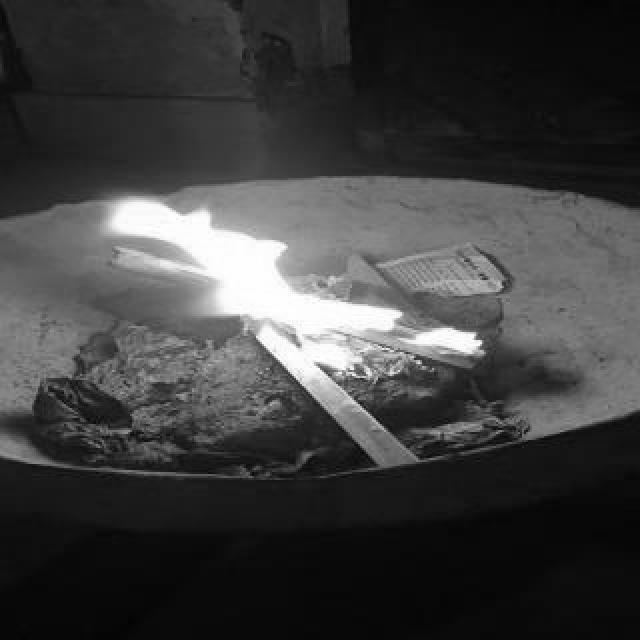Fire: (98, 178, 484, 376)
